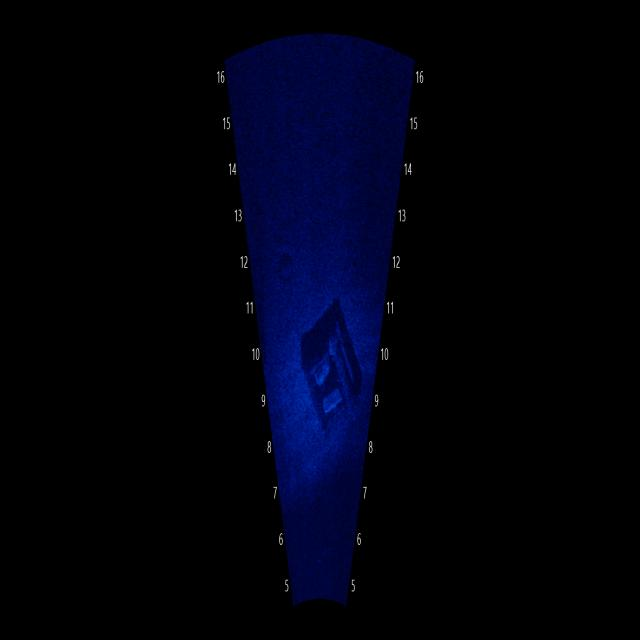square: (298, 292, 370, 436)
